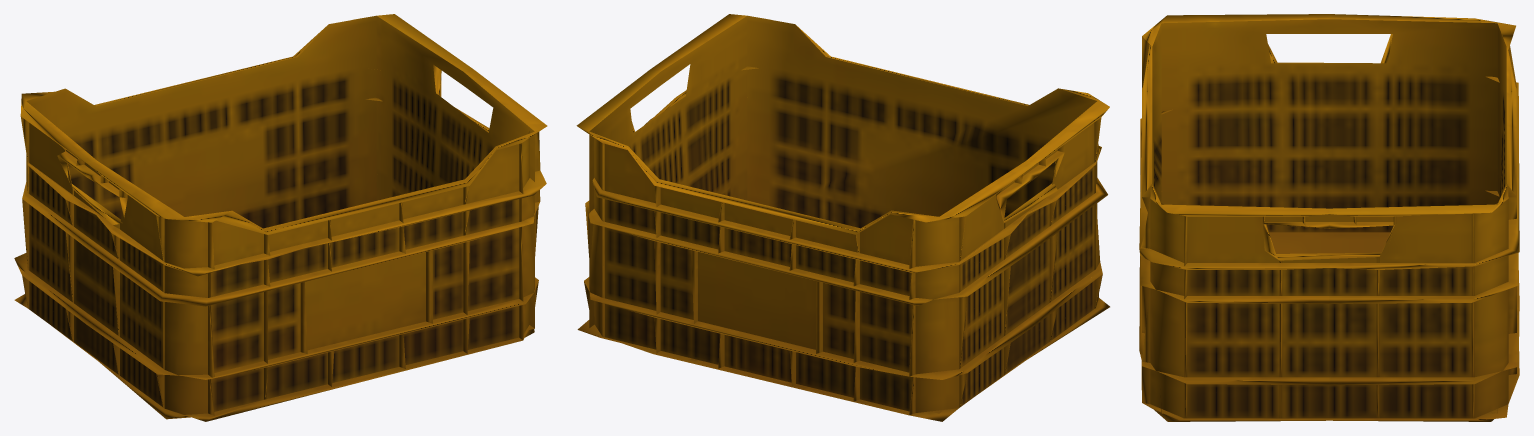
File: plastic_crate_02.glb
3 renders of one model, left to right at view 1: azimuth 30°, elevation 25°; view 2: azimuth 150°, elevation 25°; view 3: azimuth 270°, elevation 25°, orthographic. The views are drawn at different scales.
Visible parts, largest first — view 1: plastic_crate_02; view 2: plastic_crate_02; view 3: plastic_crate_02.
Part boxes in pixels (bbox=[...]): plastic_crate_02: bbox=[14, 14, 547, 421]; plastic_crate_02: bbox=[576, 14, 1109, 421]; plastic_crate_02: bbox=[1139, 14, 1519, 421].
Size of the model in its own units: 0.5055 by 0.2541 by 0.4055.
1 material, 1 textured.
